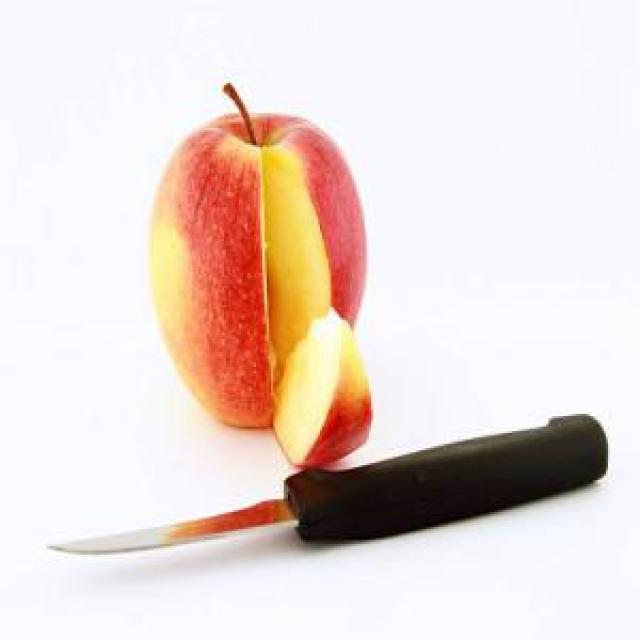knife: (49, 414, 610, 552)
